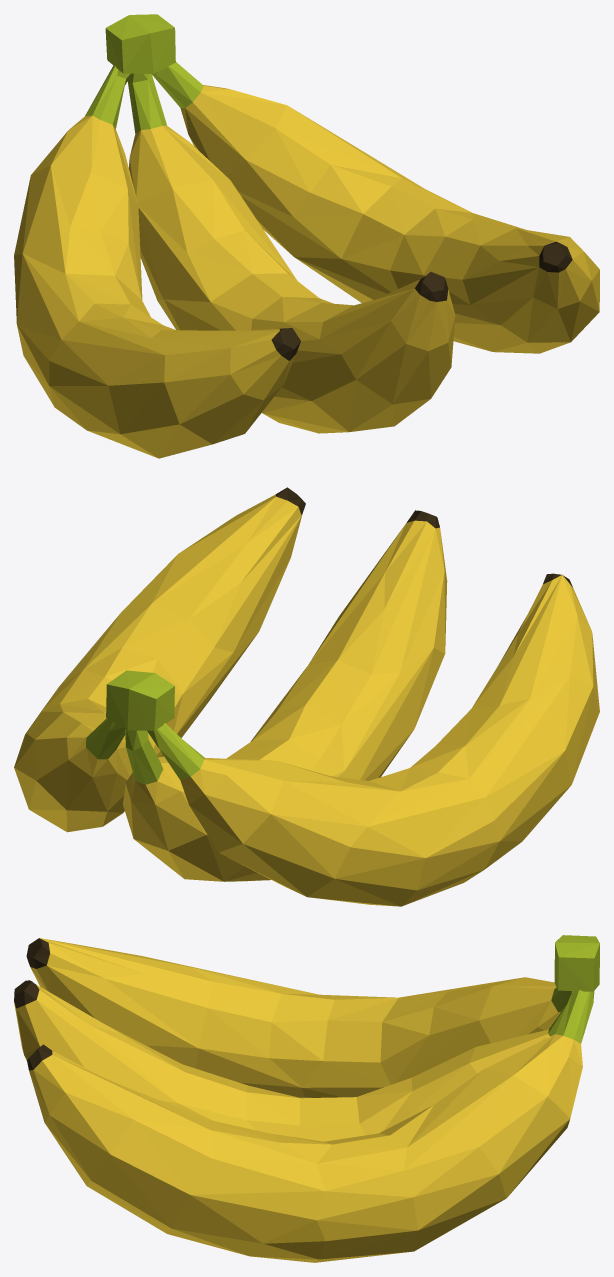
File: banana3.fbx
3 renders of one model, top to bottom at view 1: azimuth 30°, elevation 25°; view 2: azimuth 150°, elevation 25°; view 3: azimuth 270°, elevation 25°, orthographic. The views are drawn at different scales.
Parts seen in each view (by area): view 1: banana 3; view 2: banana 3; view 3: banana 3.
Boxes of the visible parts, bbox=[...] form: banana 3: bbox=[14, 14, 599, 458]; banana 3: bbox=[14, 487, 599, 906]; banana 3: bbox=[14, 935, 599, 1262].
Size of the model in its own units: 796 by 466 by 921.
